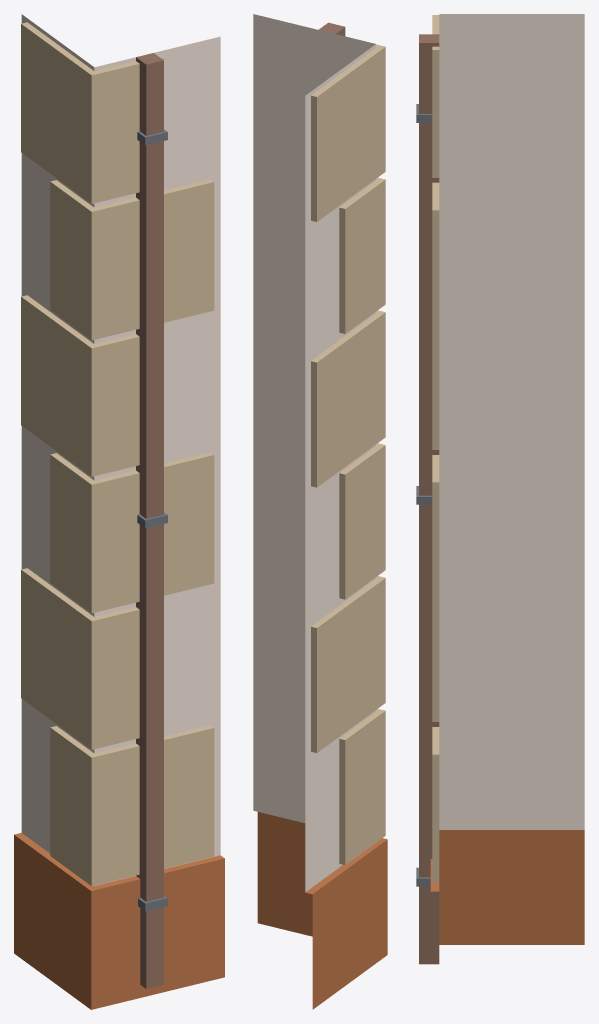
The model's file is base-c1_close.fbx.
3 views of the same model, side by side, from view 1: azimuth 30°, elevation 25°; view 2: azimuth 150°, elevation 25°; view 3: azimuth 270°, elevation 25° (orthographic). The views are drawn at different scales.
Parts seen in each view (by area): view 1: a2000s2/200/base-c1_close; view 2: a2000s2/200/base-c1_close; view 3: a2000s2/200/base-c1_close.
Boxes of the visible parts, x1,y1,x2,y2 form: a2000s2/200/base-c1_close: [14, 14, 224, 1009]; a2000s2/200/base-c1_close: [253, 14, 387, 1009]; a2000s2/200/base-c1_close: [416, 14, 584, 964].
Bounding box in the file's own units: 0.53 × 3.55 × 0.58.
